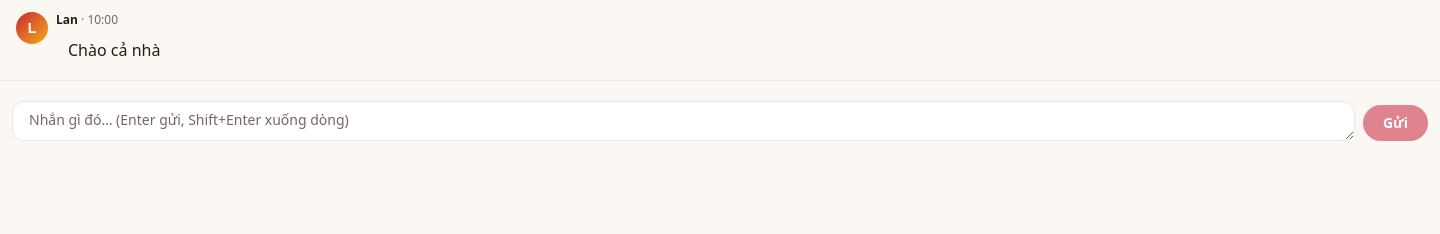
it: ChatRoom › shows the room, sends with Enter and marks the room read
Expected: the text "Chào cả nhà" is shown, [56,32,172,68]
Expected: the text "Lan" is shown, [56,11,78,28]
Type "Hello" into the text box named "Tin nhắn" at {"x": 684, "y": 121}, box [12,101,1355,141]
Then press Enter
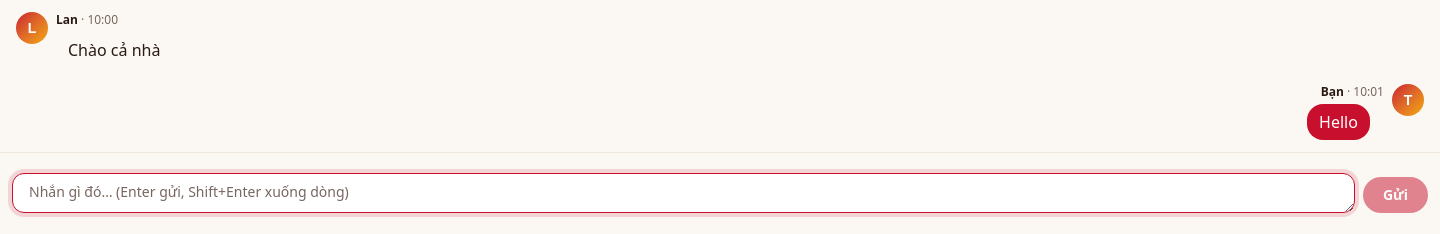
Expected: the text box named "Tin nhắn" is empty, [12,173,1355,213]
Now the text "Hello" is shown, box [1307,104,1370,140]
Now the text "Bạn" is shown, box [1321,83,1344,100]
